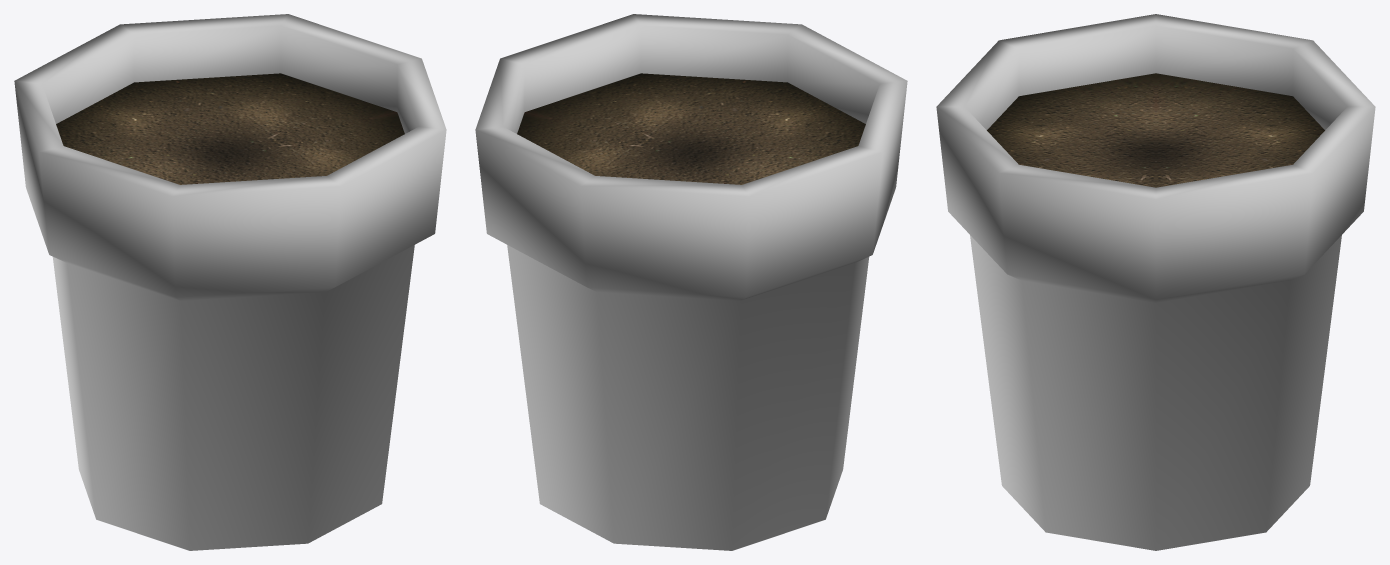
The model's file is dahuapen_001.FBX.
3 views of the same model, side by side, from view 1: azimuth 30°, elevation 25°; view 2: azimuth 150°, elevation 25°; view 3: azimuth 270°, elevation 25° (orthographic).
Parts seen in each view (by area): view 1: huapen_001, huapen_002; view 2: huapen_001, huapen_002; view 3: huapen_001, huapen_002.
Part boxes in pixels (x1,y1,x2,y2): huapen_001: [14, 14, 446, 550]; huapen_002: [56, 73, 404, 184]; huapen_001: [475, 14, 907, 550]; huapen_002: [517, 73, 865, 184]; huapen_001: [936, 14, 1375, 550]; huapen_002: [987, 73, 1324, 187].
Bounding box in the file's own units: 747 × 711 × 747.
